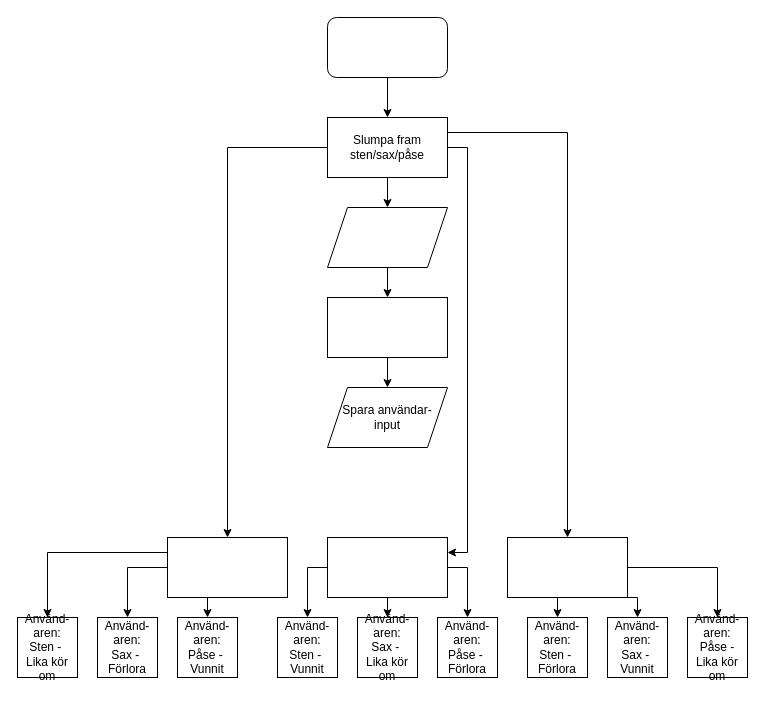
Image size: 765x701. Some labels were removed from this diagram. Here are the shapes that lost their labels. From the top down, the centre of each, then its label:
[387,47]: Start Visa: "Välkommen att spela sten sax påse!
[387,237]: Spara varibeln
[387,327]: Användaren väljer: Sten/Sax eller påse
[227,567]: Slumpat fram Sten
[387,567]: Slumpat fram Sax
[567,567]: Slumpat fram Påse
